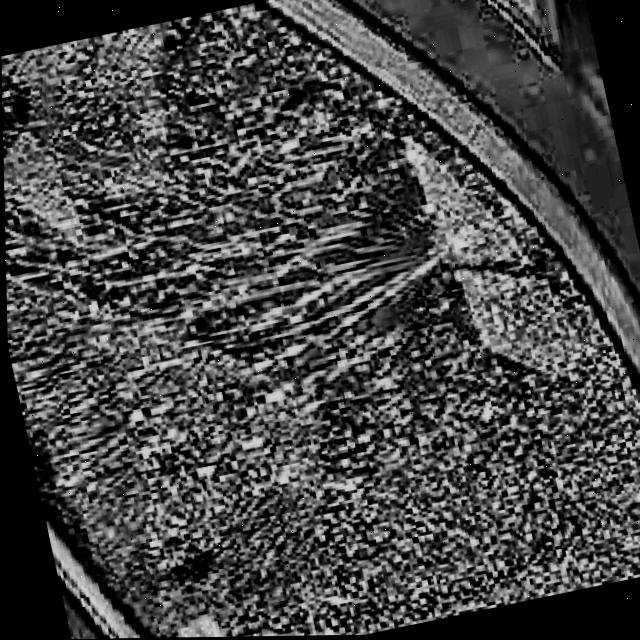glass_shatter: (1, 57, 457, 439), (126, 472, 266, 632)
